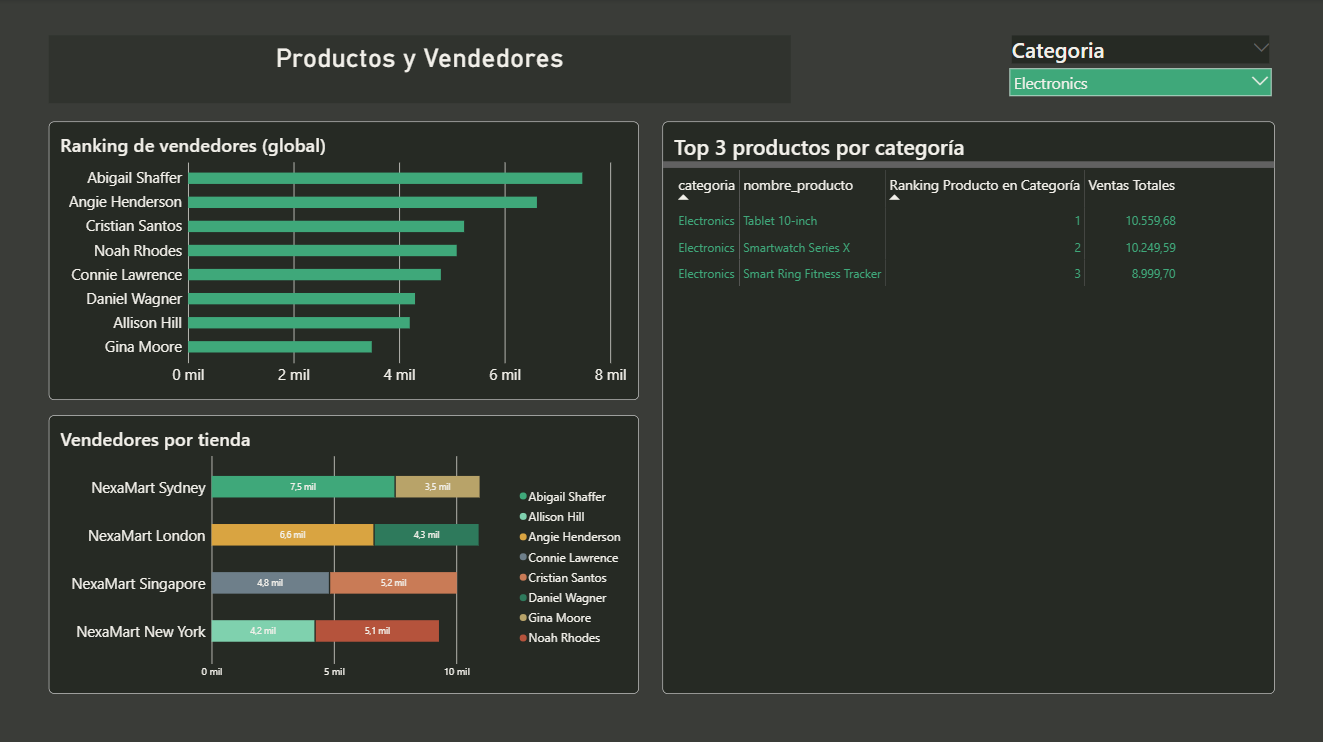

This screenshot's page, from the dashboard's own definition file:
{"tool":"powerbi","page":{"name":"Productos y Vendedores","canvas":[1920,1080],"ordinal":1},"visuals":[{"type":"barChart","title":"Vendedores por tienda","fields":{"Category":["nexamart dimtienda.nombre_tienda"],"Series":["nexamart dimvendedor.nombre_vendedor"],"Y":["Medidas.Ventas Totales"]},"box":[70.6,602.6,854.2,403.6],"z":0},{"type":"tableEx","title":"Top 3 productos por categoría","fields":{"Values":["nexamart dimproducto.categoria","nexamart dimproducto.nombre_producto","Medidas.Ranking Producto en Categoría","Medidas.Ventas Totales"]},"box":[959.1,177.3,886.7,828.8],"z":1000},{"type":"barChart","title":"Ranking de vendedores (global)","fields":{"Category":["nexamart dimvendedor.nombre_vendedor"],"Y":["Medidas.Ventas Totales"]},"box":[70.6,177.3,854.2,403.6],"z":2000},{"type":"slicer","fields":{"Values":["nexamart dimproducto.categoria"]},"box":[1456.8,52.5,389.1,193.6],"z":3000},{"type":"textbox","box":[70,52,1074,98],"z":4000}]}

Visuals, with their boxes in screenshot pixels (x1, y1, x2, y2), scaled from the page's 1920x1080 canvas onto the 1323x742 screenshot:
"Vendedores por tienda" barChart: crop(49, 414, 637, 691)
"Top 3 productos por categoría" tableEx: crop(661, 122, 1272, 691)
"Ranking de vendedores (global)" barChart: crop(49, 122, 637, 399)
slicer - nexamart dimproducto.categoria: crop(1004, 36, 1272, 169)
textbox: crop(48, 36, 788, 103)
